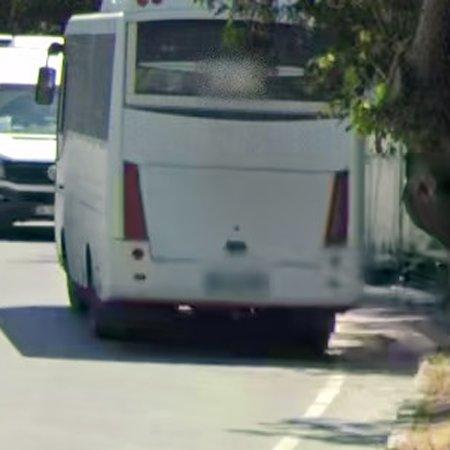buses: (55, 0, 365, 351)
